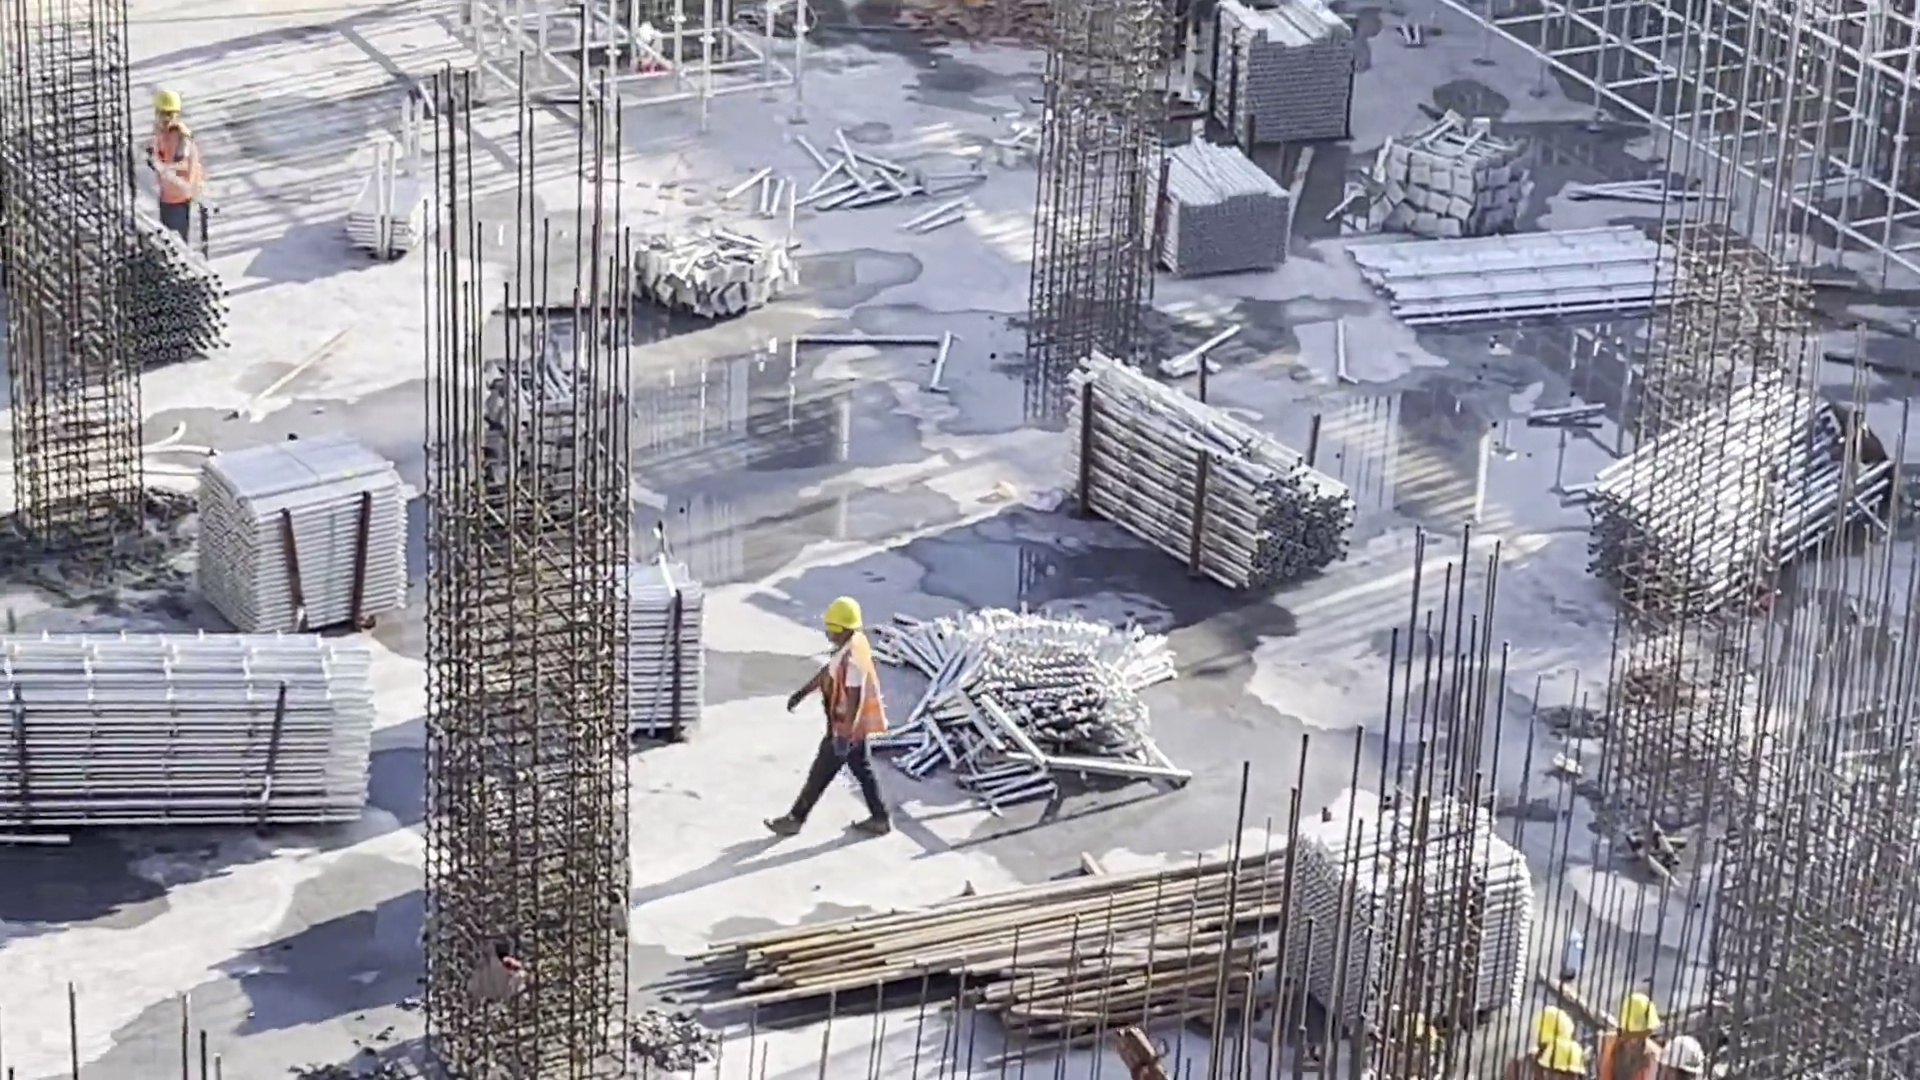helmet: (1655, 1038, 1710, 1080), (1530, 1037, 1583, 1077), (827, 603, 873, 642), (1528, 1009, 1568, 1044), (1618, 998, 1656, 1032), (154, 89, 179, 115)
person: (758, 586, 899, 843), (138, 86, 217, 265), (1587, 990, 1665, 1080), (1506, 1002, 1574, 1080), (1520, 1034, 1585, 1080), (1648, 1034, 1708, 1080)
scaffold: (1, 637, 387, 843), (1051, 348, 1284, 577), (906, 591, 1151, 804), (1, 143, 209, 369), (1664, 380, 1887, 585), (1311, 841, 1537, 1032), (220, 449, 409, 631), (1216, 4, 1381, 180), (1357, 229, 1671, 317), (613, 593, 703, 771), (1164, 152, 1283, 268), (387, 159, 439, 276)
vest: (821, 649, 879, 751), (147, 124, 202, 218)
